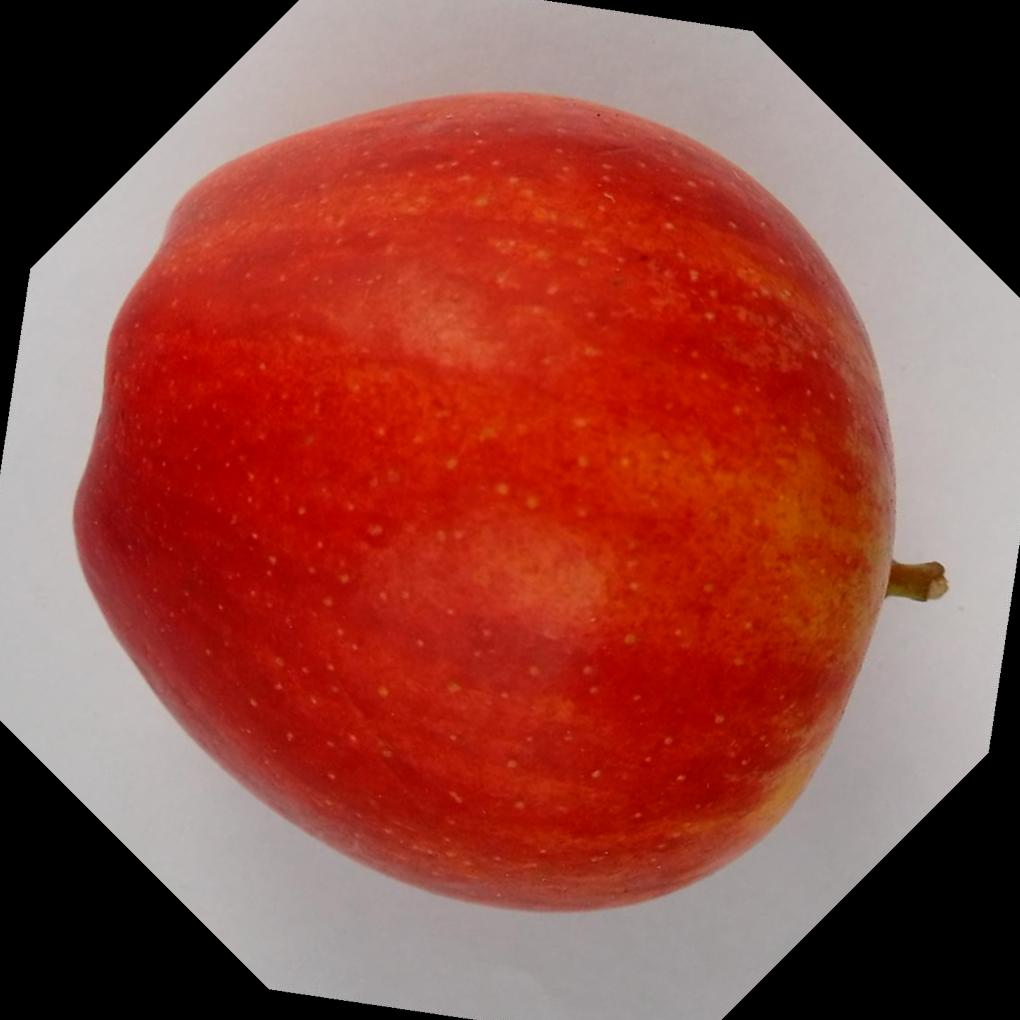FreshGuava: (65, 89, 896, 918)
